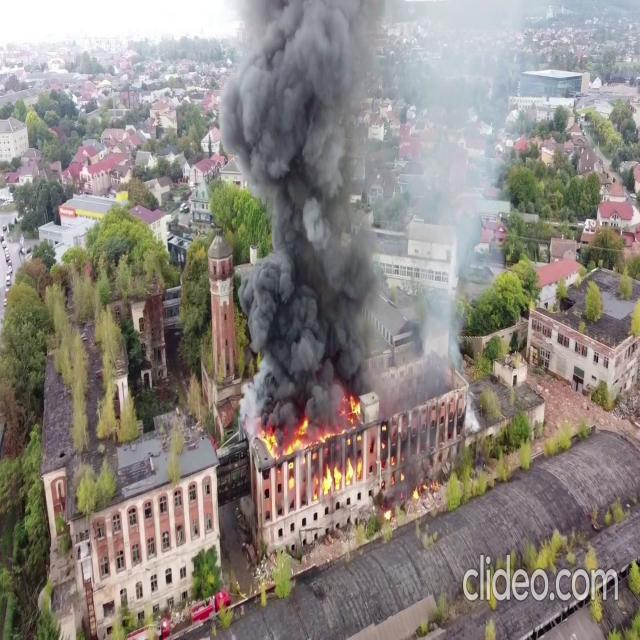Fire: (255, 390, 372, 482), (255, 400, 374, 460)
Smoke: (206, 1, 512, 405), (209, 0, 410, 405)
